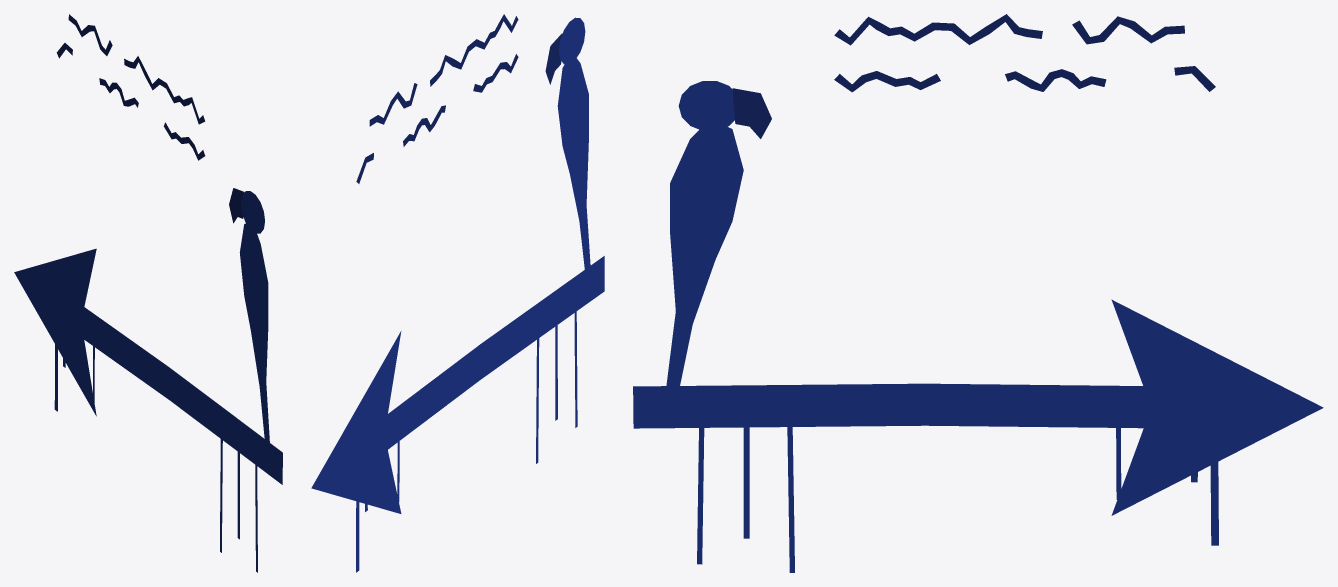
File: jerry_poster@1.glb
The picture shows the model from 3 angles, left to right: view 1: azimuth 30°, elevation 25°; view 2: azimuth 150°, elevation 25°; view 3: azimuth 270°, elevation 25°; orthographic projection. The views are drawn at different scales.
Parts seen in each view (by area): view 1: teil0, teil1; view 2: teil0, teil1; view 3: teil0, teil1.
Part boxes in pixels (x1,y1,x2,y2): teil0: (14,191,282,572); teil1: (56,14,244,223); teil0: (311,17,604,572); teil1: (356,14,562,183); teil0: (633,81,1323,572); teil1: (732,14,1215,138).
Size of the model in its own units: 0.0012 by 0.6972 by 0.7803.
